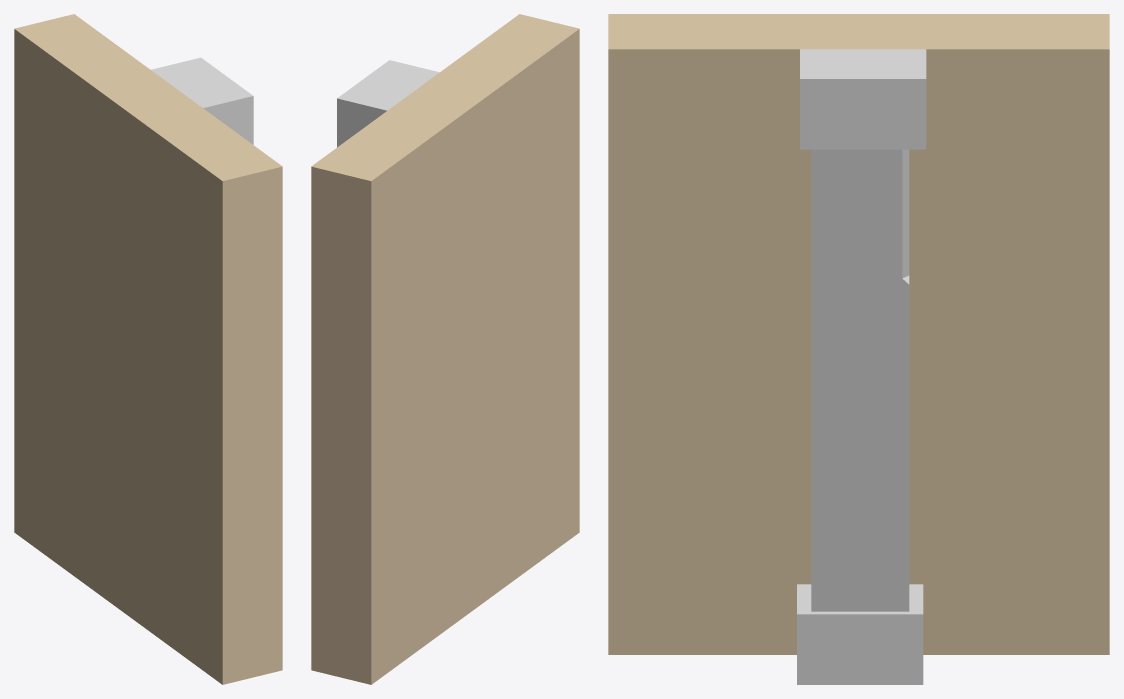
Rendered from WallColumnA.fbx.
The picture shows the model from 3 angles, left to right: view 1: azimuth 30°, elevation 25°; view 2: azimuth 150°, elevation 25°; view 3: azimuth 270°, elevation 25°; orthographic projection. The views are drawn at different scales.
Visible parts, largest first — view 1: WallColumnA; view 2: WallColumnA; view 3: WallColumnA.
Boxes of the visible parts, bbox=[...] form: WallColumnA: bbox=[14, 14, 282, 684]; WallColumnA: bbox=[311, 14, 579, 684]; WallColumnA: bbox=[608, 14, 1109, 684].
Size of the model in its own units: 56.24 by 183 by 244.
